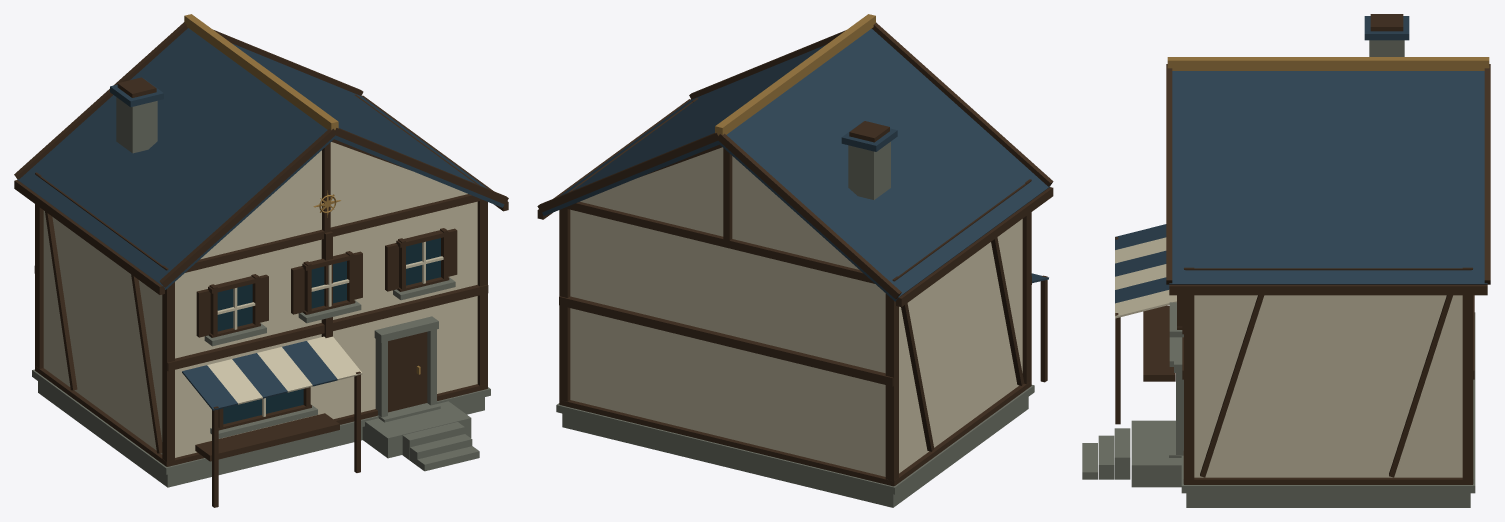
Rendered from House_Merchant_LOD1.fbx.
The picture shows the model from 3 angles, left to right: view 1: azimuth 30°, elevation 25°; view 2: azimuth 150°, elevation 25°; view 3: azimuth 270°, elevation 25°; orthographic projection. The views are drawn at different scales.
Visible parts, largest first — view 1: House_Merchant_Body; view 2: House_Merchant_Body; view 3: House_Merchant_Body.
Part boxes in pixels (x1,y1,x2,y2): House_Merchant_Body: [14, 14, 508, 507]; House_Merchant_Body: [537, 14, 1053, 507]; House_Merchant_Body: [1082, 14, 1490, 507].
Size of the model in its own units: 9.81 by 8.94 by 9.08.
